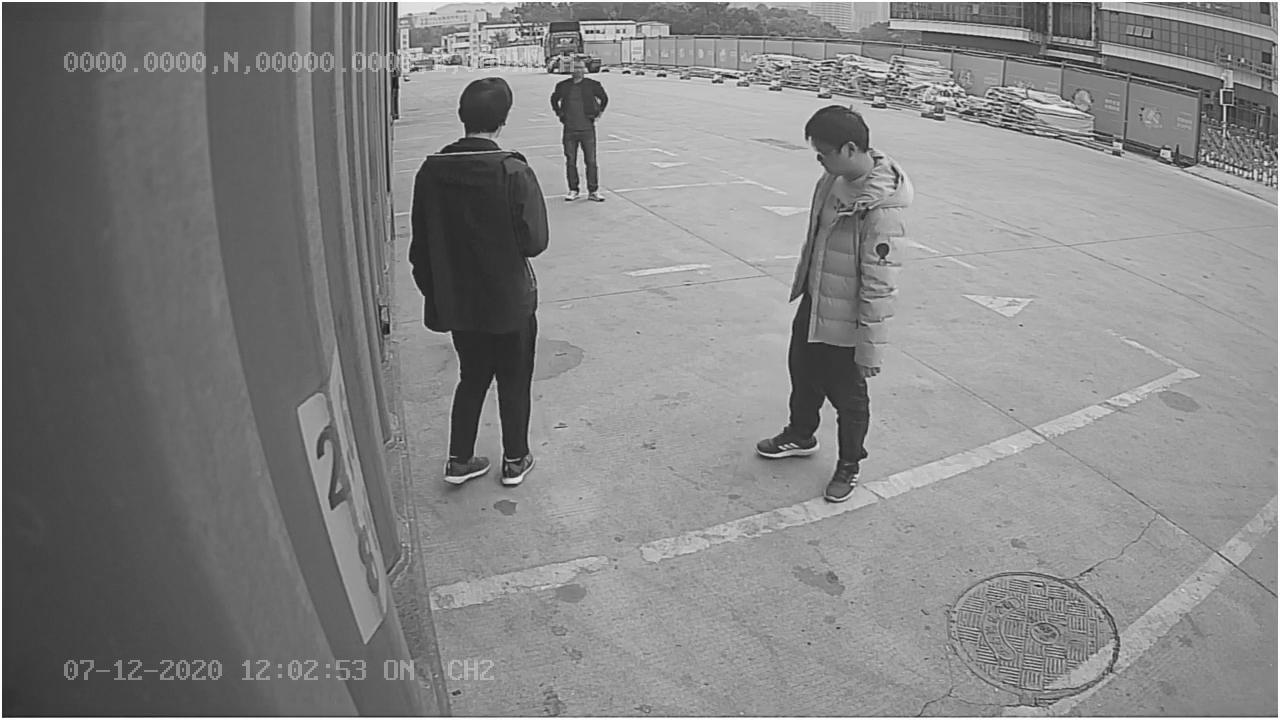person: (752, 101, 917, 501)
